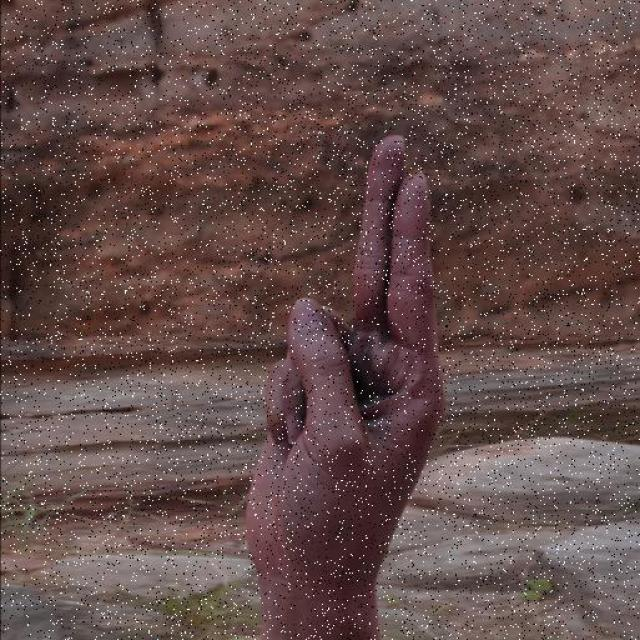U: (223, 128, 451, 588)
